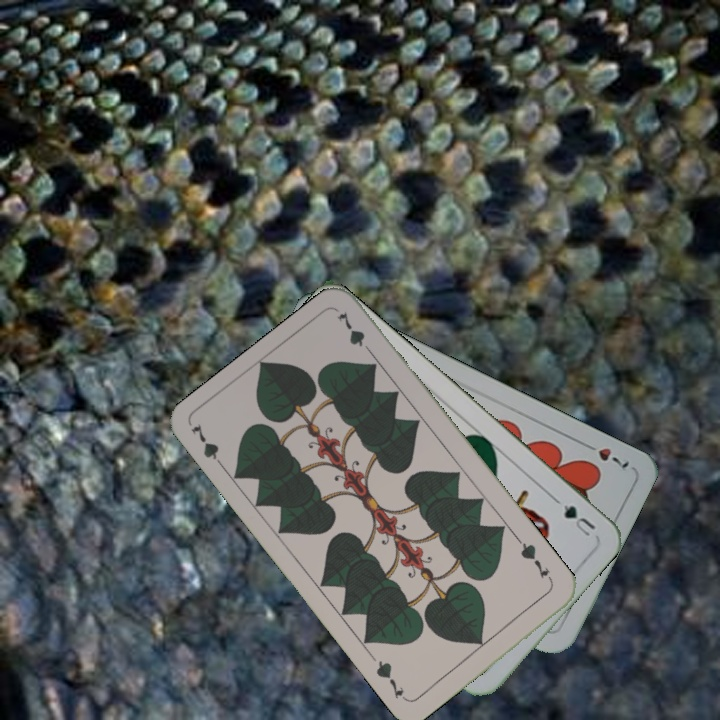G7: (187, 419, 229, 474), (514, 536, 556, 586)
GU: (551, 494, 598, 539)
H7: (578, 438, 632, 471)
